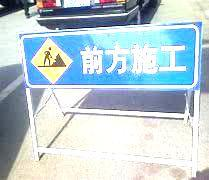sign: (22, 24, 199, 86)
